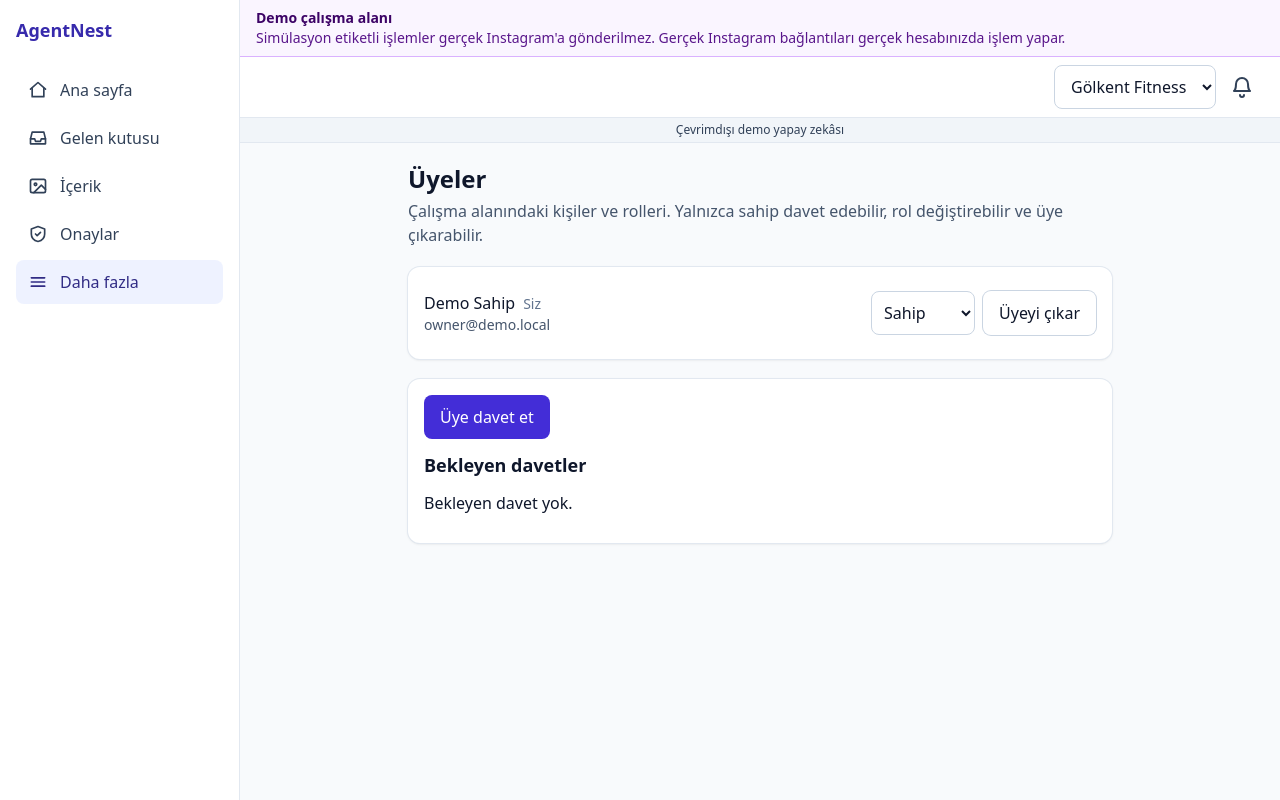
Scenario: the members screen › shows the last-owner error text when the owner demotes the only owner
Step 1. Select "Yönetici" in the dropdown named "Rolü değiştir" → (923, 313), box [871,291,975,335]
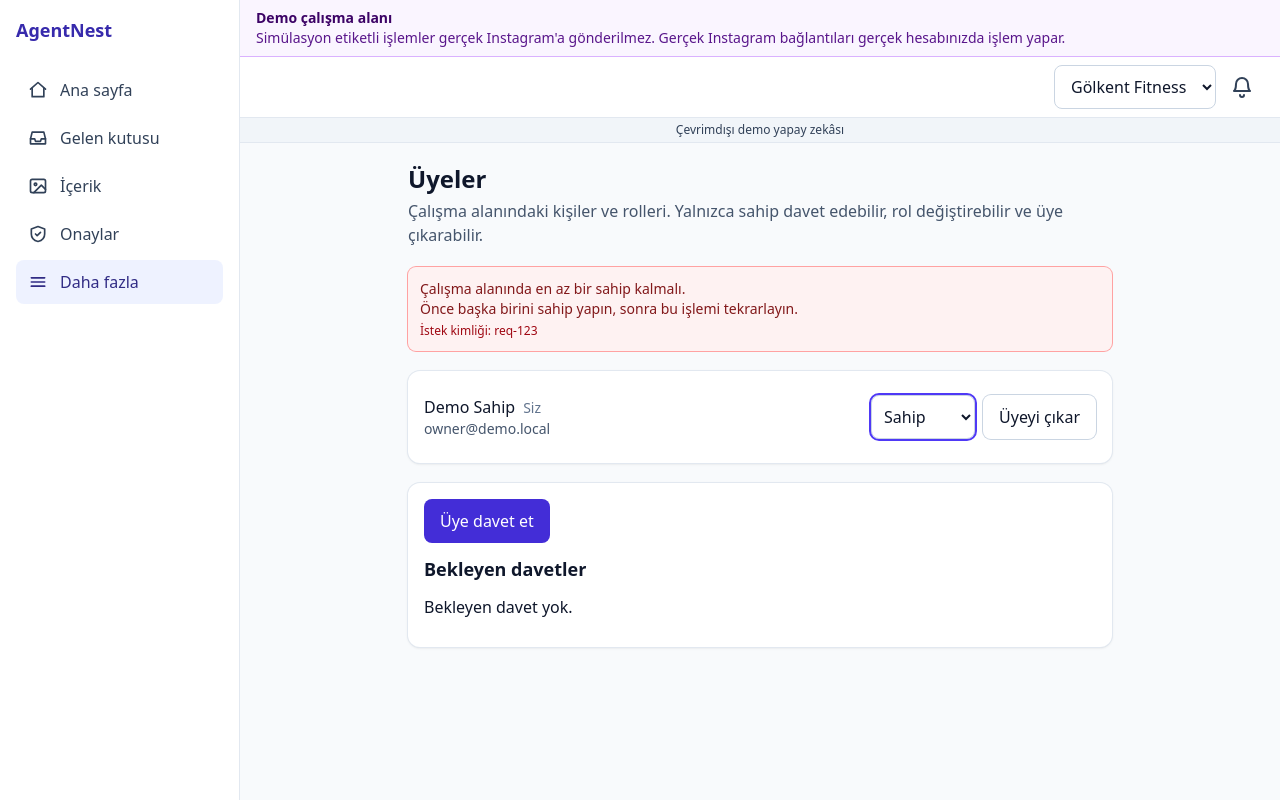
Expected: the text "Çalışma alanında en az bir sahip kalmalı." is shown, [420,279,685,298]
